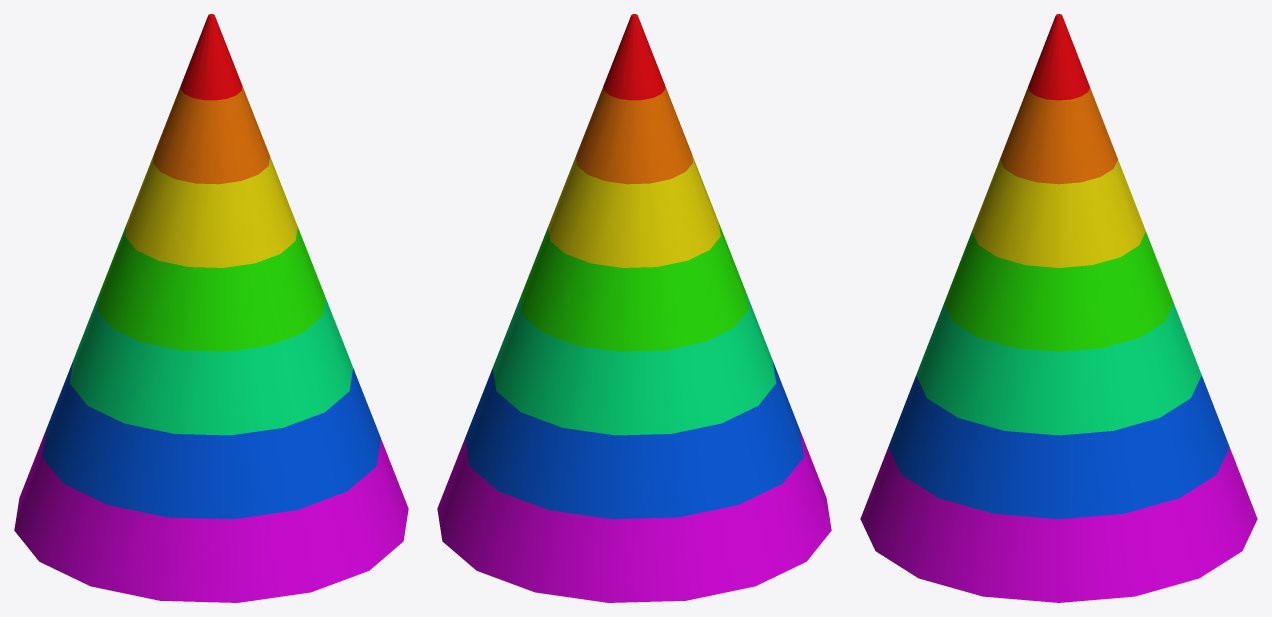
The model's file is HAT_Anniversary.fbx.
3 renders of one model, left to right at view 1: azimuth 30°, elevation 25°; view 2: azimuth 150°, elevation 25°; view 3: azimuth 270°, elevation 25°, orthographic.
Parts seen in each view (by area): view 1: Anniversary_hat; view 2: Anniversary_hat; view 3: Anniversary_hat.
Part boxes in pixels (x1,y1,x2,y2): Anniversary_hat: (14, 14, 408, 602); Anniversary_hat: (437, 14, 831, 602); Anniversary_hat: (860, 14, 1257, 602).
Size of the model in its own units: 33.7 by 47.14 by 33.7.
